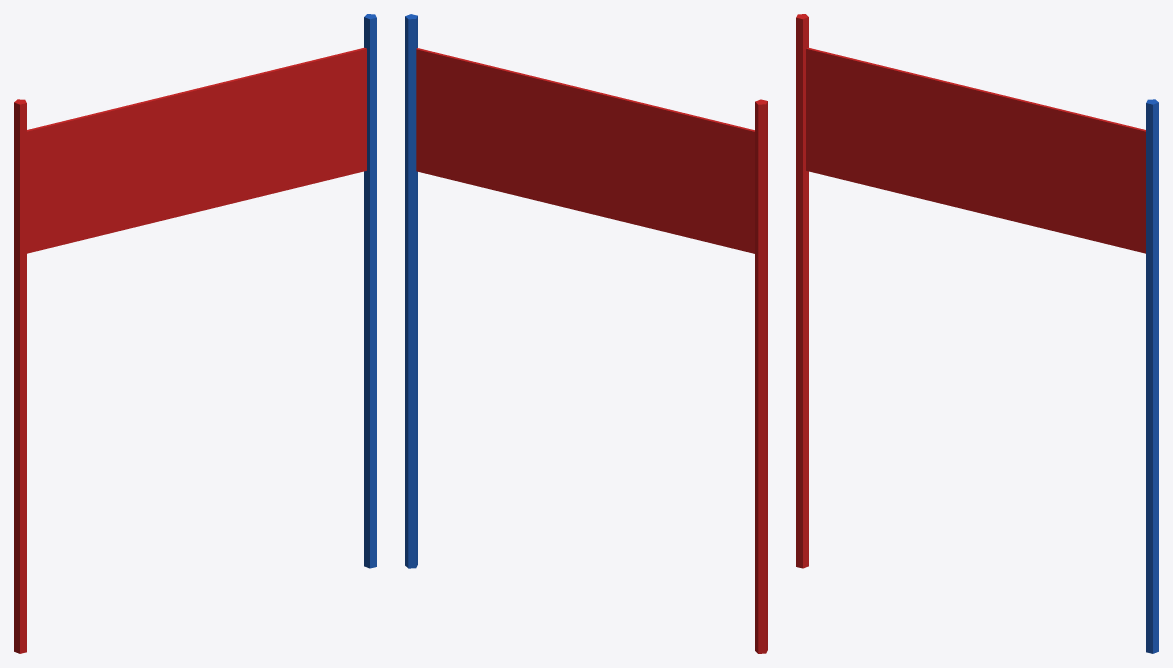
Rendered from slalom_gate.glb.
3 renders of one model, left to right at view 1: azimuth 30°, elevation 25°; view 2: azimuth 150°, elevation 25°; view 3: azimuth 330°, elevation 25°, orthographic.
Visible parts, largest first — view 1: slalom_gate; view 2: slalom_gate; view 3: slalom_gate.
Part boxes in pixels (box(x1,y1,x2,y2)): slalom_gate: box(14, 14, 376, 653); slalom_gate: box(405, 14, 767, 653); slalom_gate: box(796, 14, 1158, 653).
Size of the model in its own units: 1.24 by 1.8 by 0.0362.
